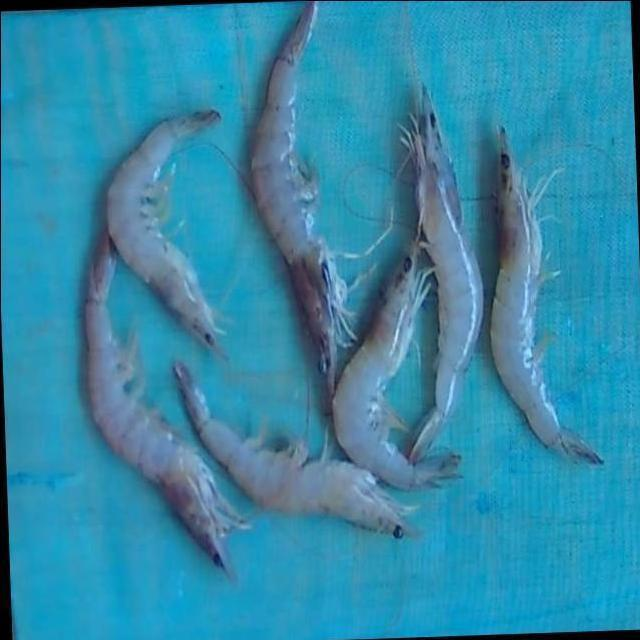shrimp: (83, 231, 242, 583), (172, 361, 409, 537), (250, 0, 353, 398), (490, 127, 602, 464), (332, 236, 459, 489), (408, 85, 483, 463), (105, 109, 219, 350)
